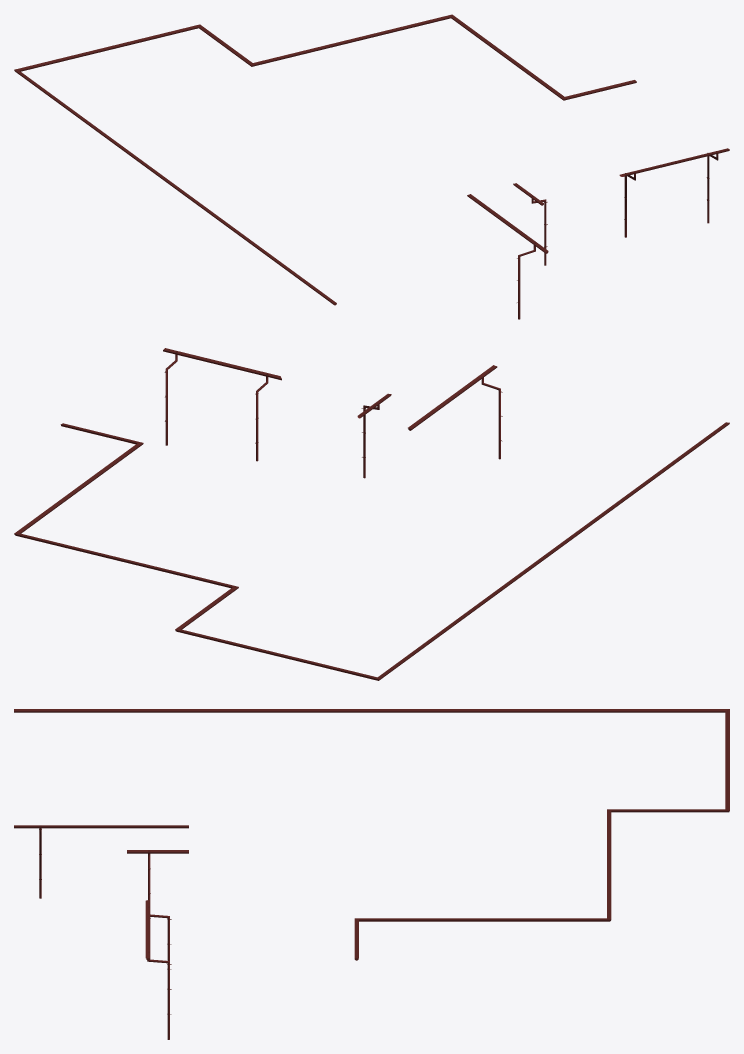
Rendered from Guttering.fbx.
3 views of the same model, one above another, from view 1: azimuth 30°, elevation 25°; view 2: azimuth 150°, elevation 25°; view 3: azimuth 270°, elevation 25° (orthographic). The views are drawn at different scales.
Parts seen in each view (by area): view 1: Guttering; view 2: Guttering; view 3: Guttering.
Boxes of the visible parts, x1,y1,x2,y2 form: Guttering: (14, 14, 729, 319); Guttering: (14, 348, 729, 680); Guttering: (14, 709, 729, 1039).
Bounding box in the file's own units: 1775 × 291 × 2156.
